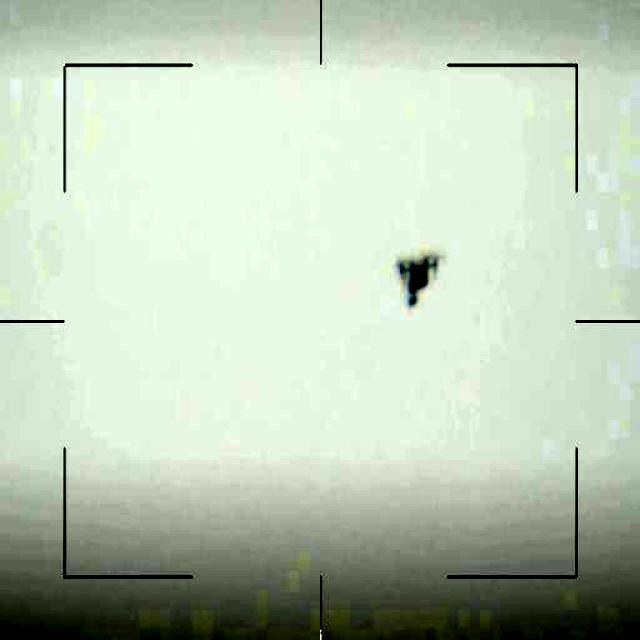bird: (392, 248, 450, 318)
